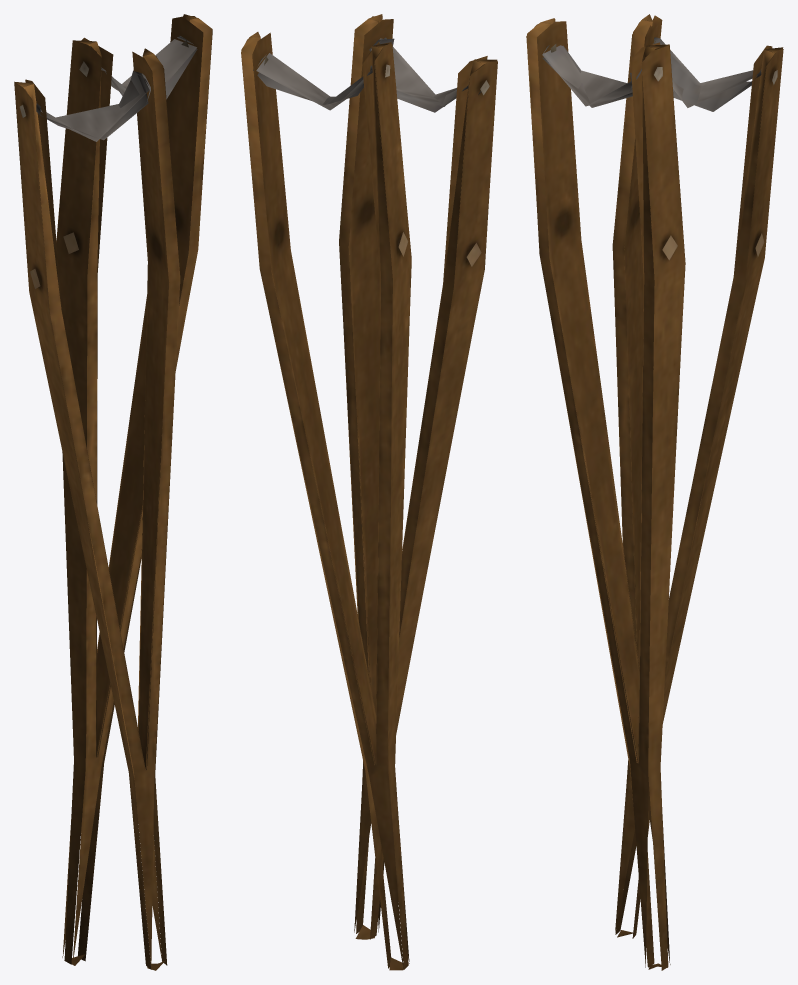
File: Crutches.fbx
3 views of the same model, side by side, from view 1: azimuth 30°, elevation 25°; view 2: azimuth 150°, elevation 25°; view 3: azimuth 330°, elevation 25° (orthographic).
Visible parts, largest first — view 1: костыли; view 2: костыли; view 3: костыли.
Part boxes in pixels (x1,y1,x2,y2): костыли: [14, 14, 212, 970]; костыли: [241, 14, 497, 970]; костыли: [526, 14, 783, 970].
Size of the model in its own units: 0.3842 by 1.61 by 0.2.
1 material, 1 textured.
